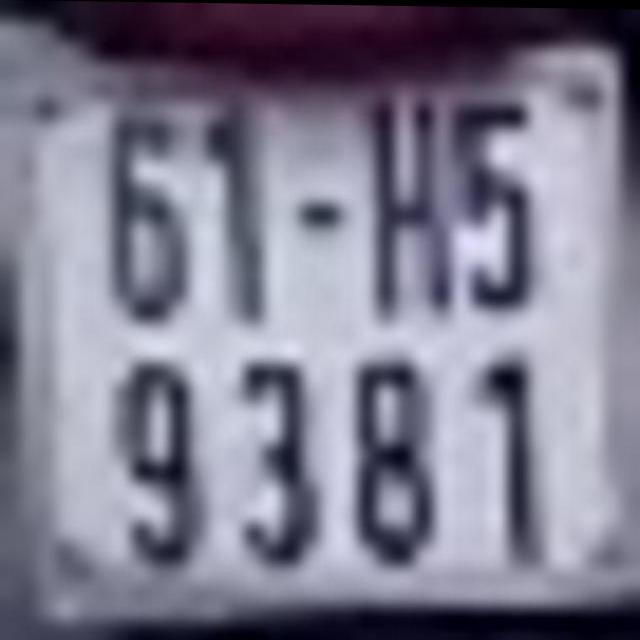1: (482, 346, 544, 569), (206, 99, 270, 315)
3: (238, 357, 310, 551)
5: (462, 93, 534, 309)
6: (108, 97, 186, 321)
8: (354, 356, 441, 555)
9: (118, 349, 202, 569)
H: (368, 90, 452, 318)
